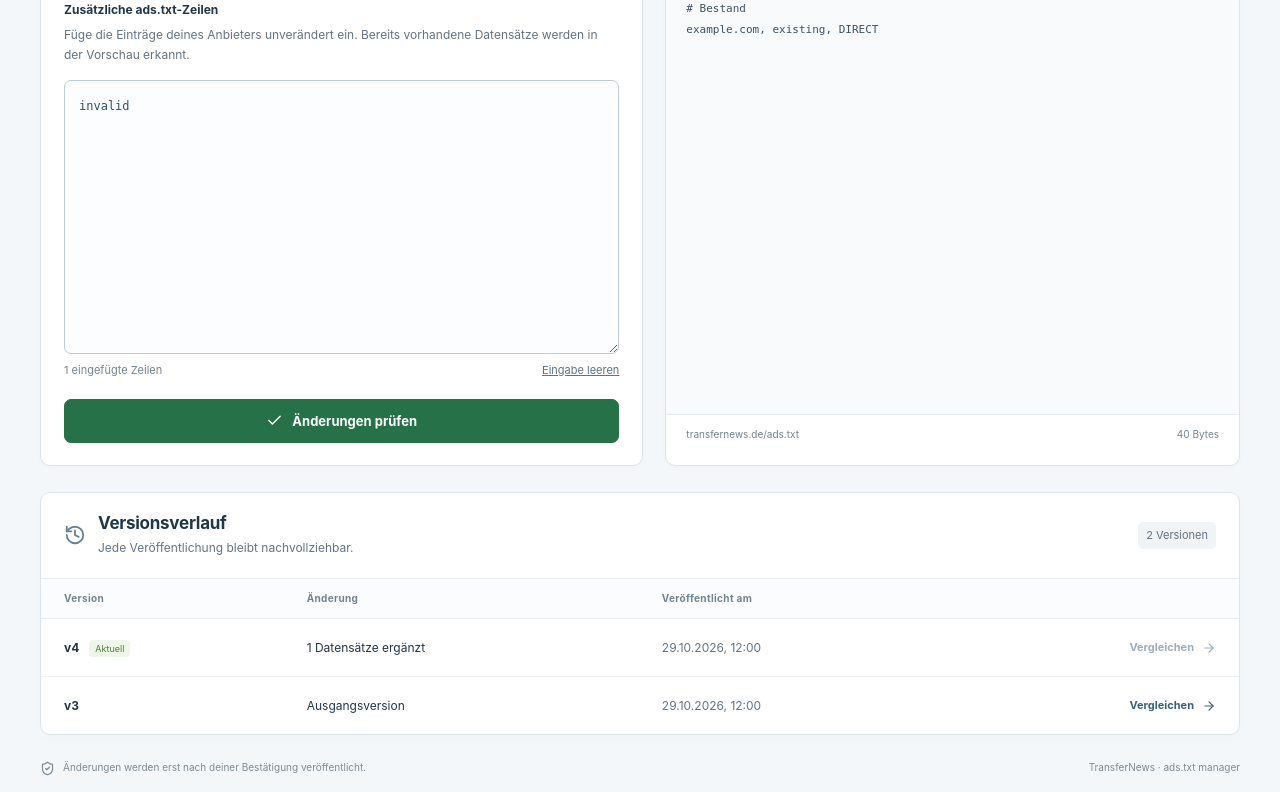
Test: validation reports the full invalid count when the API limits error details
(page scrolled)
Click the button "Änderungen prüfen": click(342, 421) [64,399,619,443]
(page scrolled)
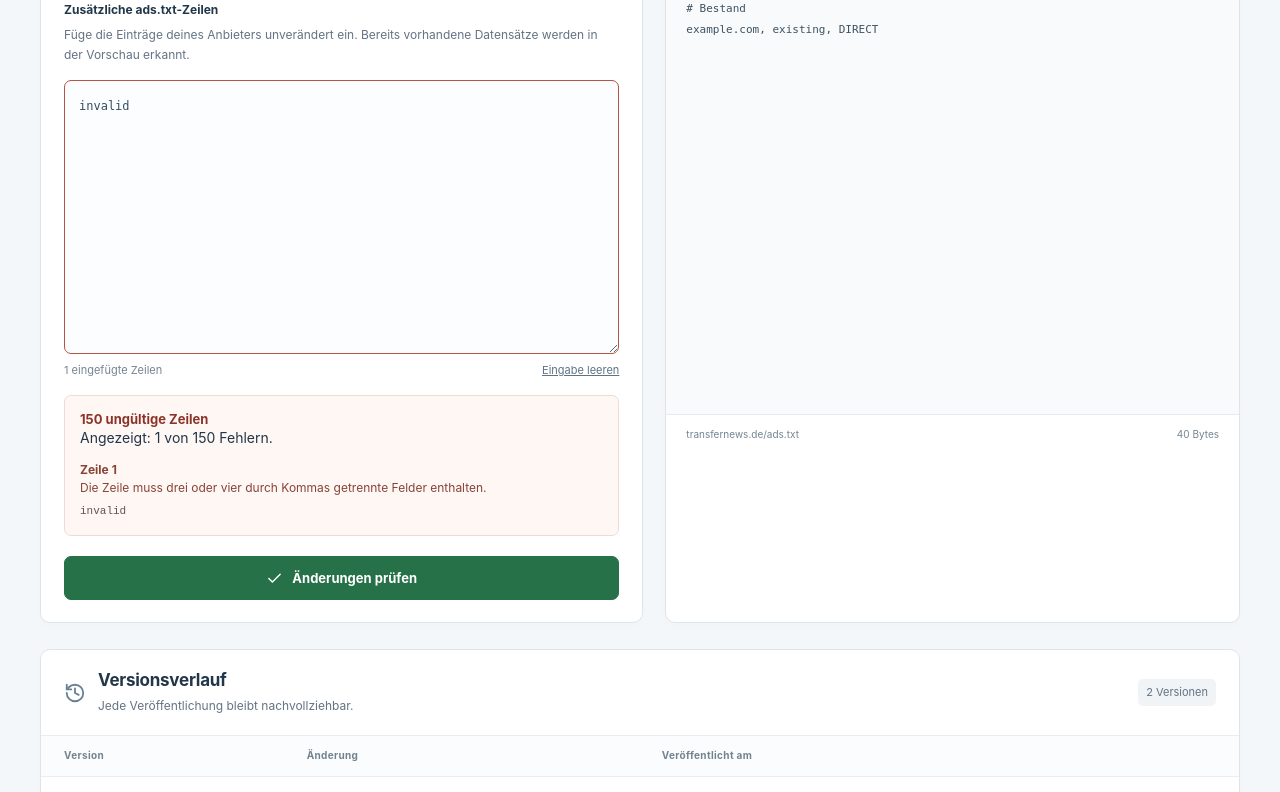
Check: the text "150 ungültige Zeilen" is shown, box [80,411,208,427]
Check: the text "Angezeigt: 1 von 150 Fehlern" is shown, box [80,429,273,446]
